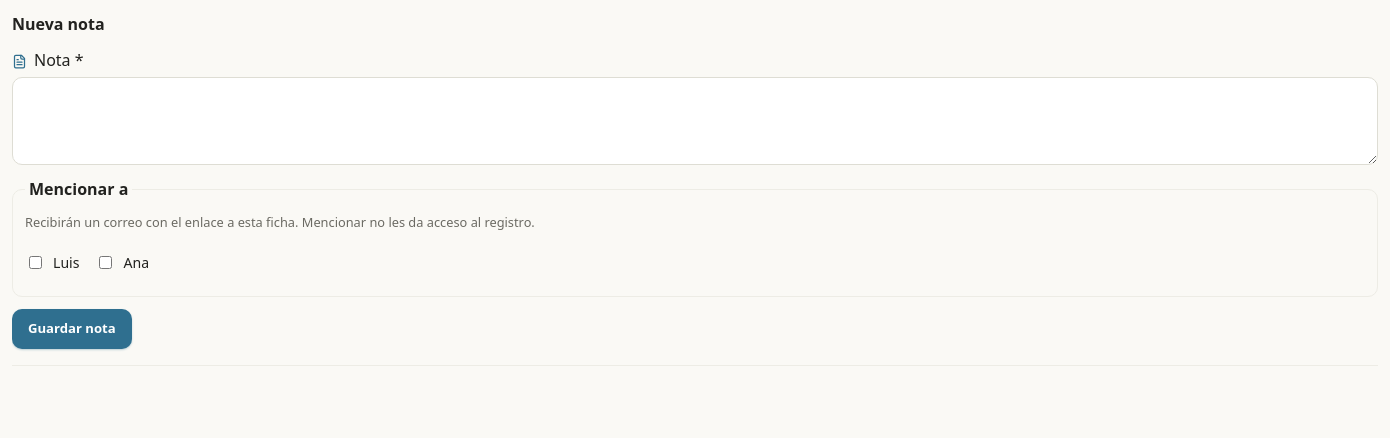
escribe una nota con menciones; si falla conserva el texto y las casillas para reintentar
Expected: the element "Mencionar a" shows "no les da acceso", [25,213,535,231]
Type "Hola equipo" into the text box labelled "Nota" at [695, 121], box [12,77,1378,165]
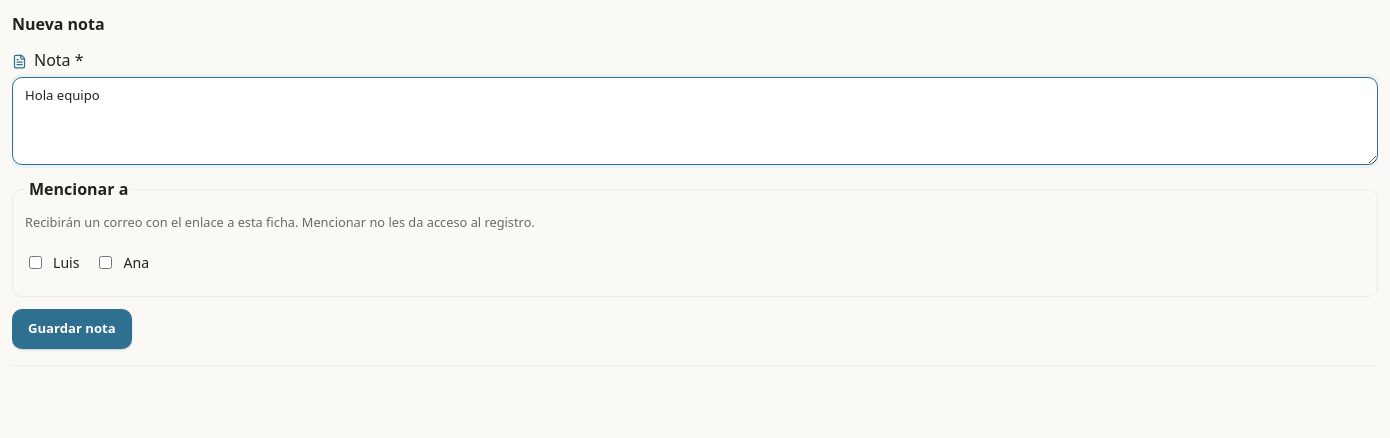
Click the checkbox labelled "Ana" at [106, 262], box [100,256,112,269]
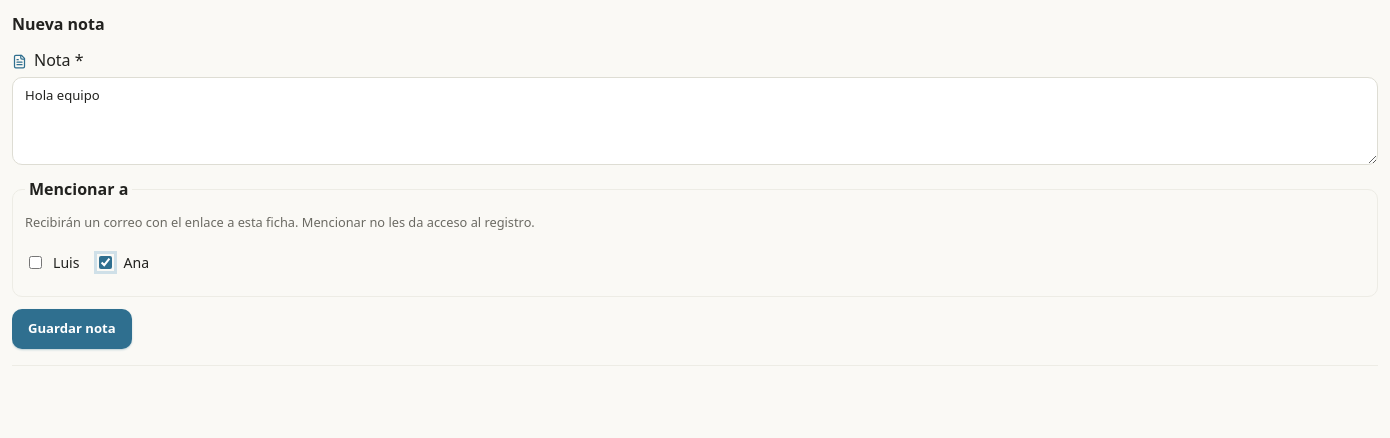
Click the button "Guardar nota" at [72, 329], box [12,309,132,349]
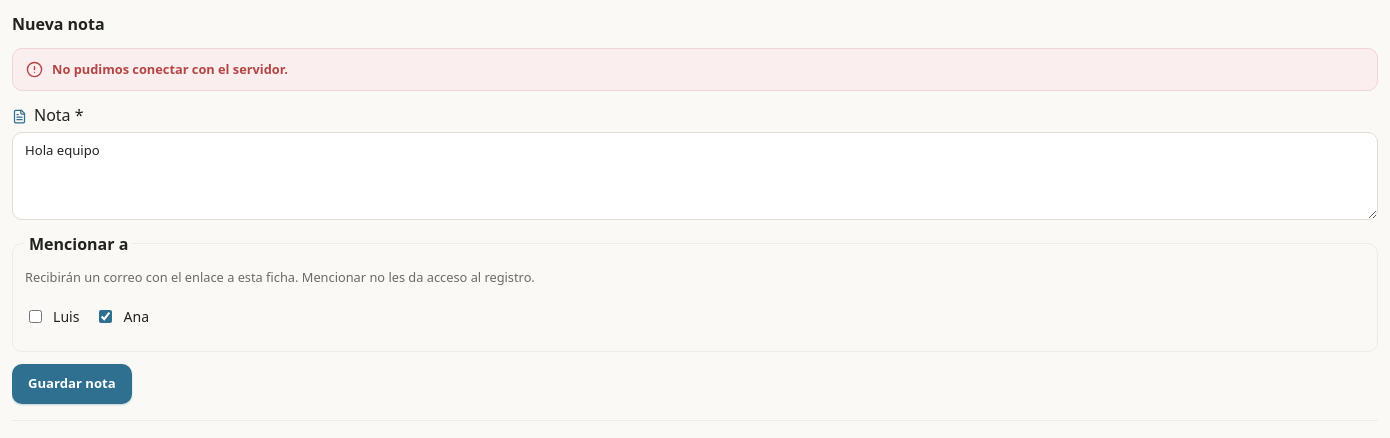
Now the checkbox labelled "Ana" is checked, box [100,310,112,323]
Now the message reads "No pudimos conectar con el servidor.", box [52,60,288,78]
Click the button "Guardar nota" at [72, 384], box [12,364,132,404]
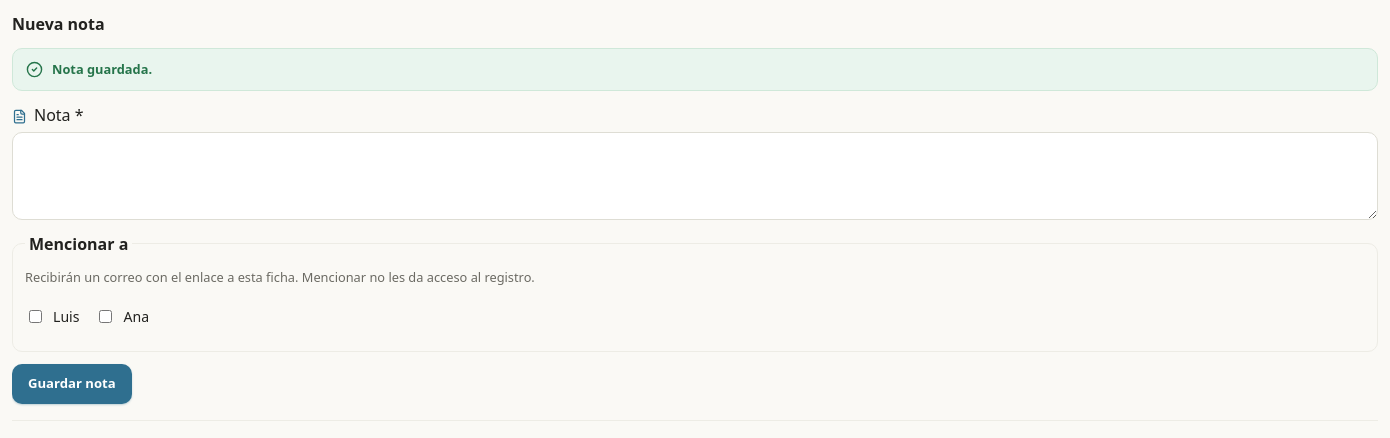
Now the text "Nota guardada." is shown, box [52,60,152,78]
Now the text box labelled "Nota" is empty, box [12,132,1378,220]
